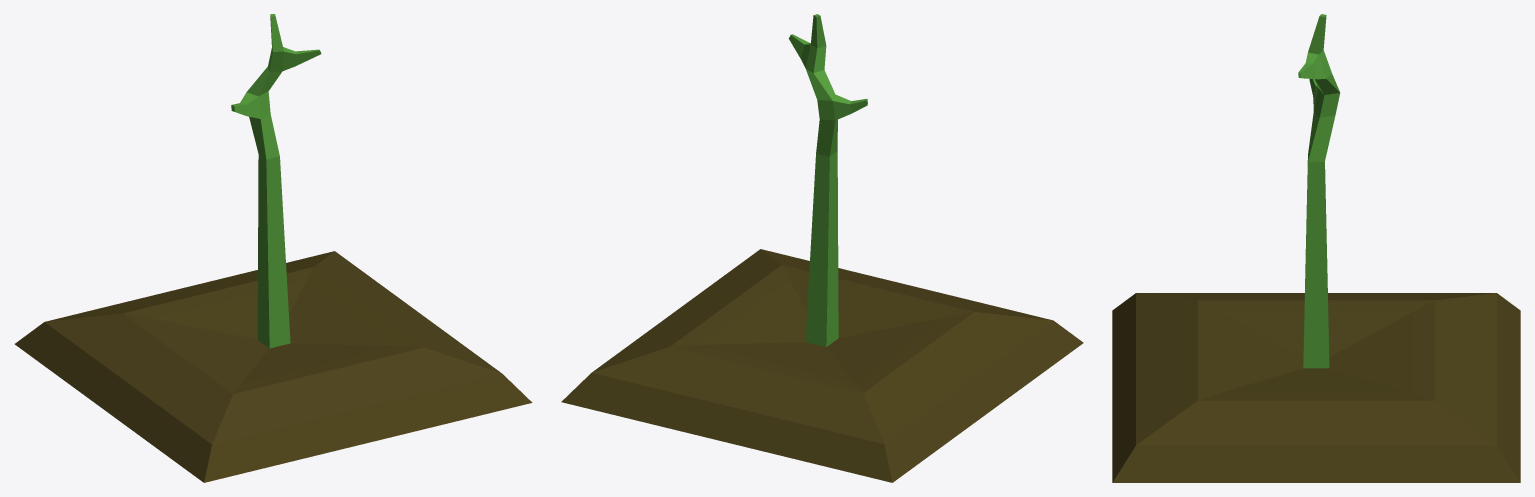
File: fa_plantedA_50.glb
The picture shows the model from 3 angles, left to right: view 1: azimuth 30°, elevation 25°; view 2: azimuth 150°, elevation 25°; view 3: azimuth 270°, elevation 25°; orthographic projection. The views are drawn at different scales.
Parts seen in each view (by area): view 1: farmingArea_planted_50; view 2: farmingArea_planted_50; view 3: farmingArea_planted_50.
Boxes of the visible parts, x1,y1,x2,y2 form: farmingArea_planted_50: [14, 14, 532, 482]; farmingArea_planted_50: [561, 14, 1083, 482]; farmingArea_planted_50: [1112, 14, 1520, 482].
Bounding box in the file's own units: 0.8 × 0.8272 × 0.8.
